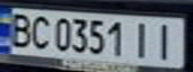0: (51, 15, 72, 52)
1: (106, 18, 130, 57)
3: (69, 16, 90, 55)
5: (87, 17, 109, 56)
B: (3, 9, 36, 48)
C: (27, 12, 54, 51)
I: (148, 20, 181, 61), (127, 19, 157, 60)
